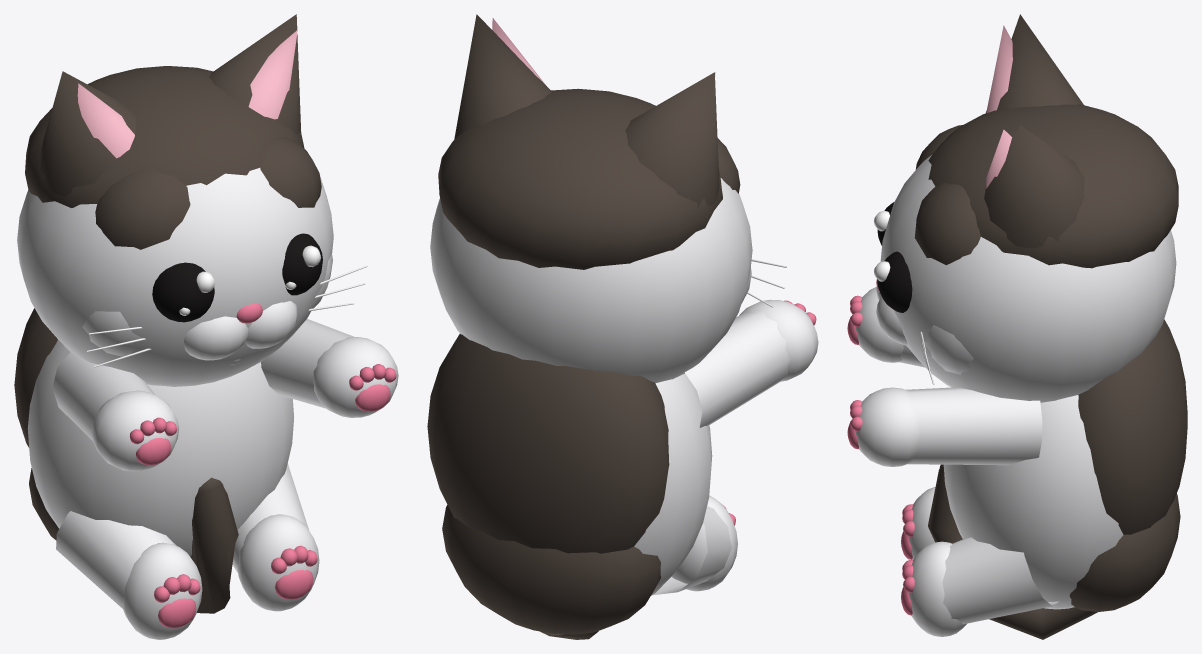
File: cat.obj
The picture shows the model from 3 angles, left to right: view 1: azimuth 30°, elevation 25°; view 2: azimuth 150°, elevation 25°; view 3: azimuth 270°, elevation 25°; orthographic projection. The views are drawn at different scales.
Parts seen in each view (by area): view 1: CatPart_WhiteFur, CatPart_TabbyDark, CatPart_PinkJelly, CatPart_InnerEarPink, CatPart_EyeDark, CatPart_Whisker, CatPart_EyeSparkle; view 2: CatPart_TabbyDark, CatPart_WhiteFur; view 3: CatPart_WhiteFur, CatPart_TabbyDark, CatPart_PinkJelly, CatPart_InnerEarPink, CatPart_EyeDark, CatPart_EyeSparkle.
Boxes of the visible parts, x1=… form: CatPart_WhiteFur: x1=17, y1=168, x2=398, y2=639; CatPart_TabbyDark: x1=14, y1=14, x2=321, y2=613; CatPart_PinkJelly: x1=129, y1=303, x2=396, y2=628; CatPart_InnerEarPink: x1=77, y1=30, x2=297, y2=158; CatPart_EyeDark: x1=152, y1=233, x2=322, y2=322; CatPart_Whisker: x1=87, y1=265, x2=367, y2=367; CatPart_EyeSparkle: x1=179, y1=245, x2=320, y2=315; CatPart_TabbyDark: x1=427, y1=14, x2=740, y2=639; CatPart_WhiteFur: x1=430, y1=178, x2=818, y2=595; CatPart_WhiteFur: x1=855, y1=155, x2=1176, y2=636; CatPart_TabbyDark: x1=914, y1=14, x2=1187, y2=639; CatPart_PinkJelly: x1=847, y1=279, x2=914, y2=615; CatPart_InnerEarPink: x1=986, y1=25, x2=1012, y2=188; CatPart_EyeDark: x1=877, y1=202, x2=912, y2=312; CatPart_EyeSparkle: x1=874, y1=211, x2=890, y2=281.
Bounding box in the file's own units: 0.81 × 1.51 × 0.827.
